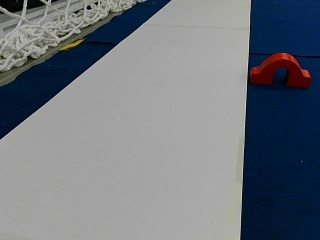bridge: (252, 52, 310, 84)
